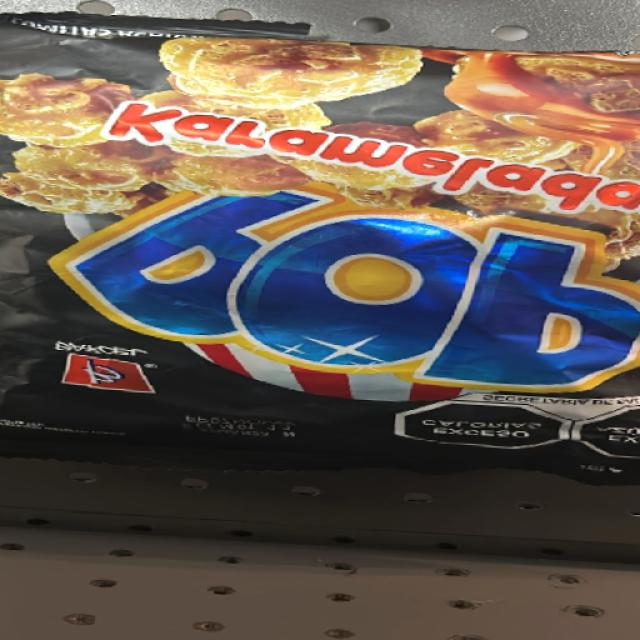popKarameladas: (18, 20, 618, 472)
